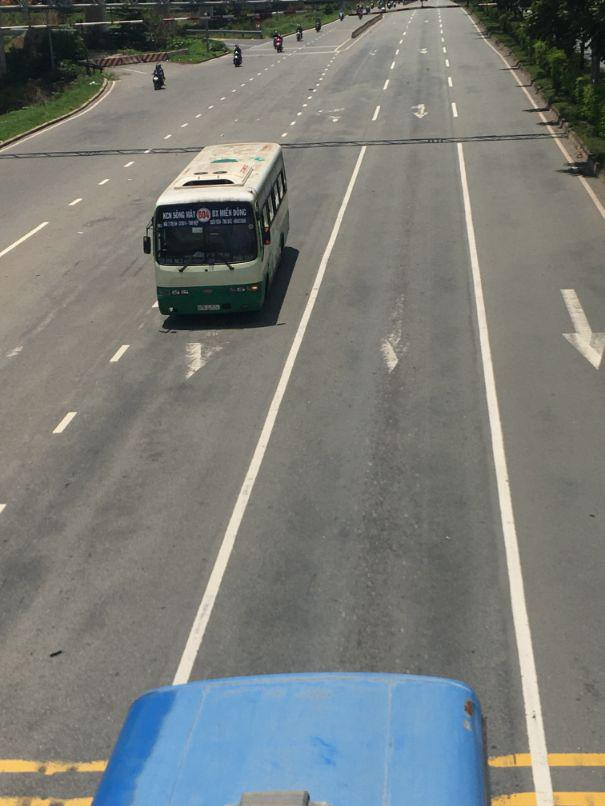bus: (145, 139, 296, 322)
motorbike: (152, 64, 167, 90), (275, 34, 286, 52), (233, 47, 240, 68)
